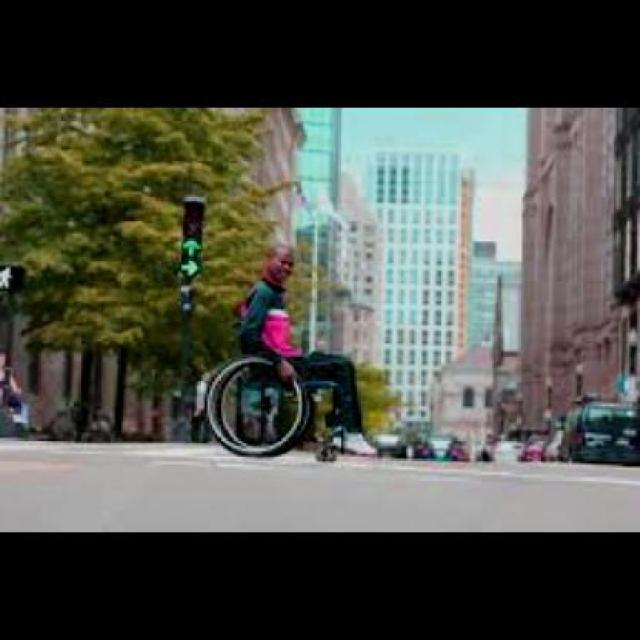wheelchairs: (204, 298, 363, 468)
